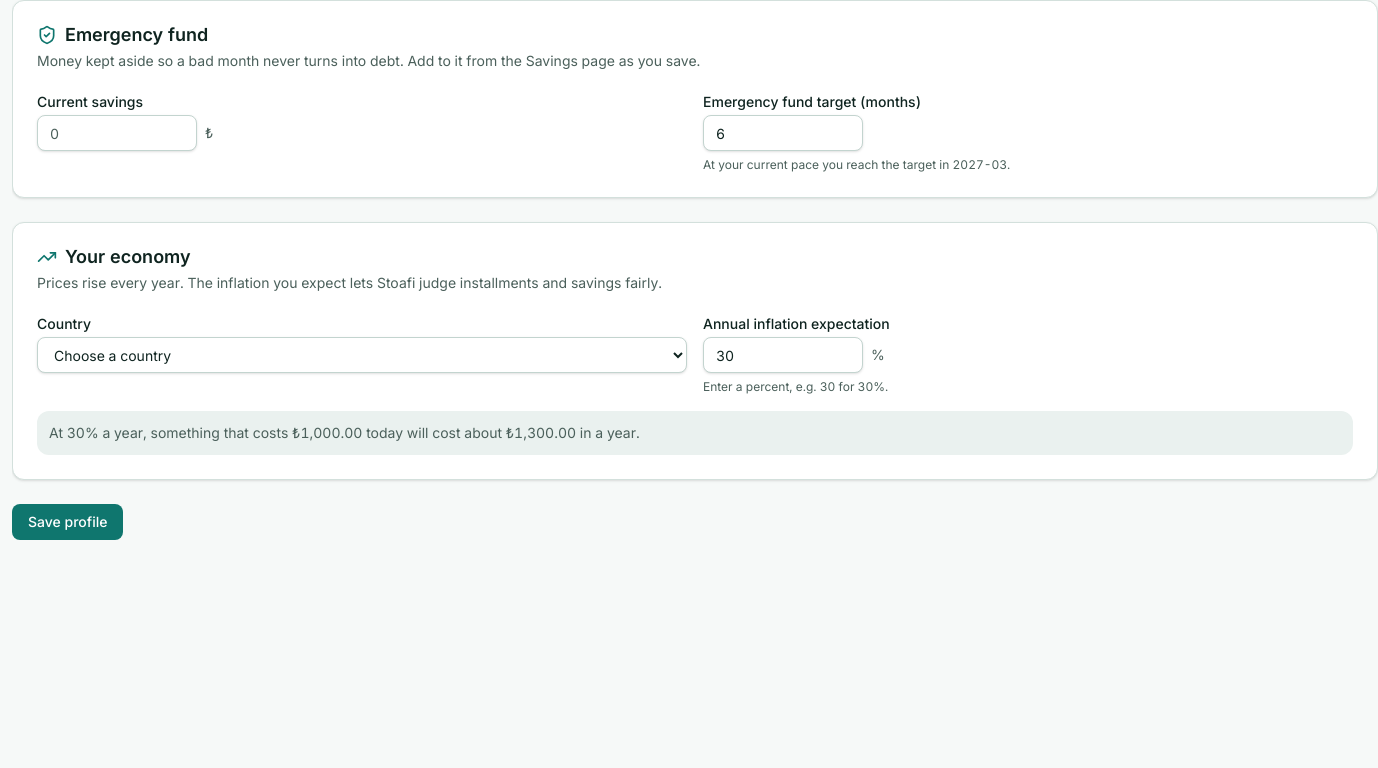
Test: ProfileForm settings › emergency fund completion month › updates as the target months change
The width and height of the screenshot is (1378, 768).
Replace the text in the number field labelled "Emergency fund target (months)" with "3" at (783, 133), box [703, 115, 863, 151]
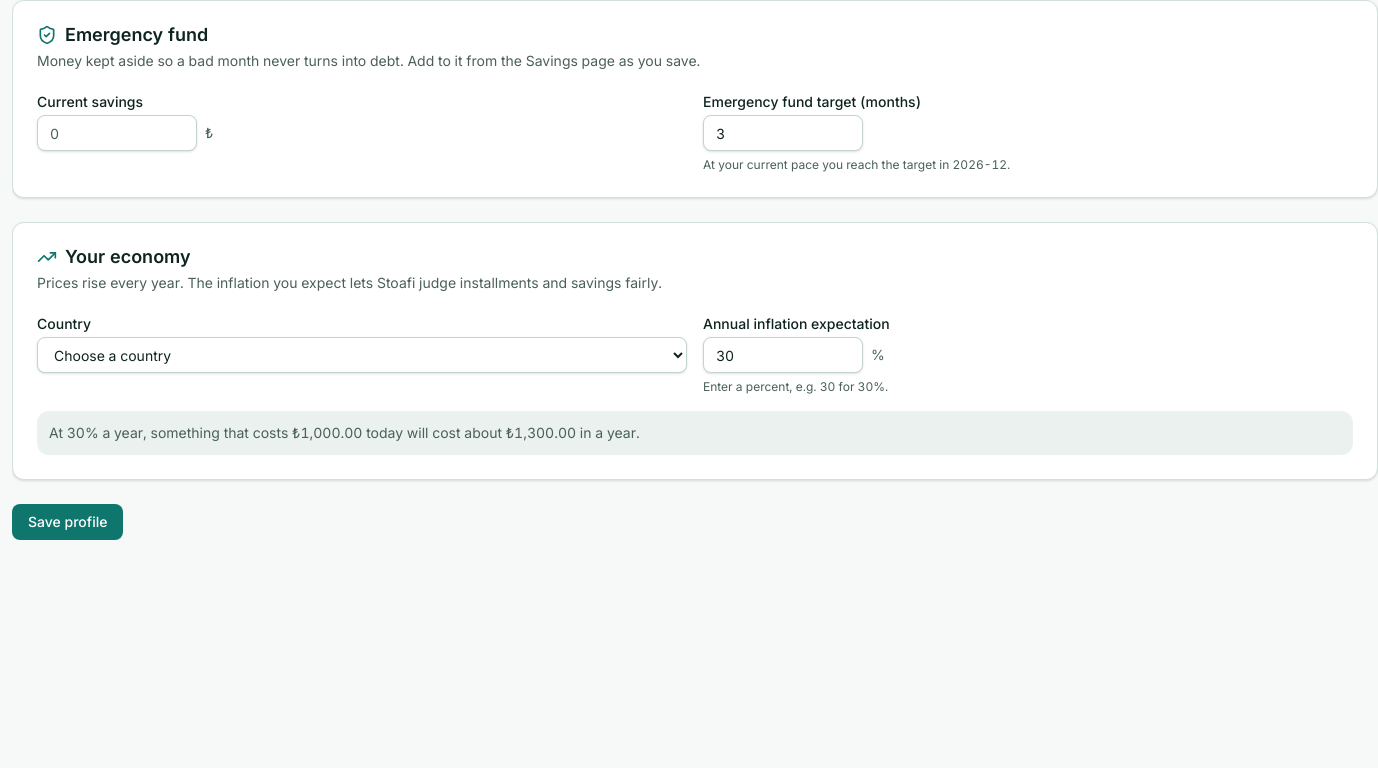
Check: the text with test id "emergency-fund-caption" shows "2026-12", box [703, 157, 1010, 172]
